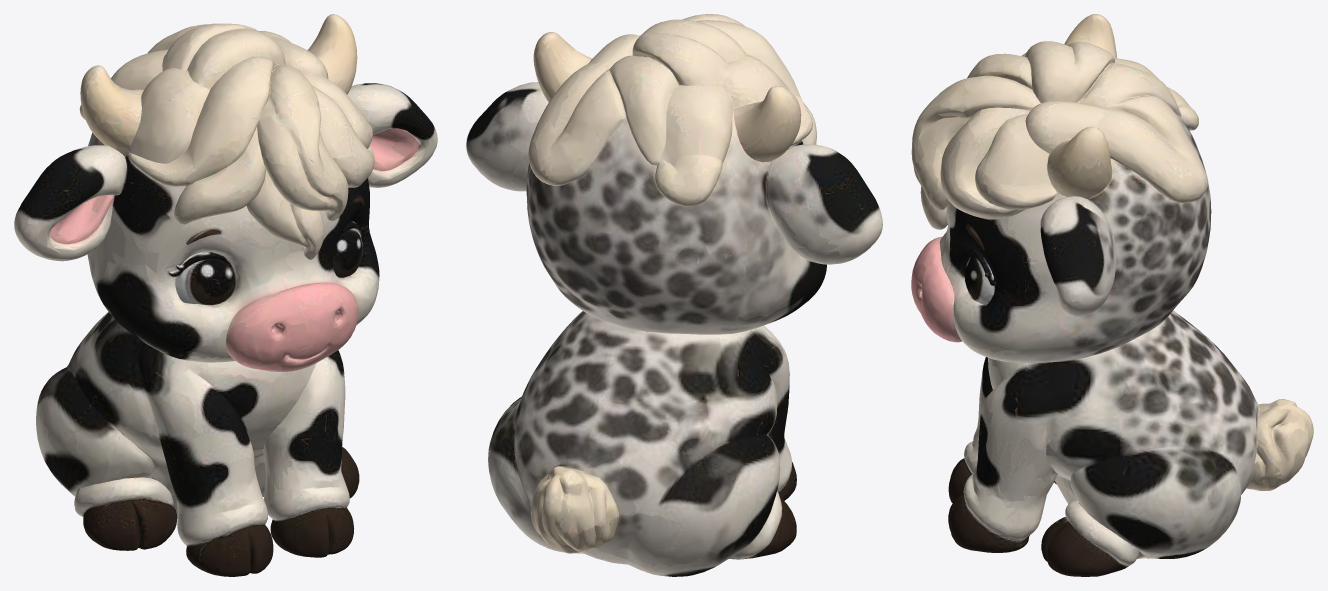
3 renders of one model, left to right at view 1: azimuth 30°, elevation 25°; view 2: azimuth 150°, elevation 25°; view 3: azimuth 270°, elevation 25°, orthographic. The views are drawn at different scales.
Visible parts, largest first — view 1: output_unwrapped; view 2: output_unwrapped; view 3: output_unwrapped.
Part boxes in pixels (left/top/right/bottom): output_unwrapped: left=14, top=14, right=437, bottom=576; output_unwrapped: left=466, top=14, right=882, bottom=576; output_unwrapped: left=911, top=14, right=1313, bottom=576.
Size of the model in its own units: 1.69 by 1.9 by 1.48.
Materials: 1 (1 with a texture image).
